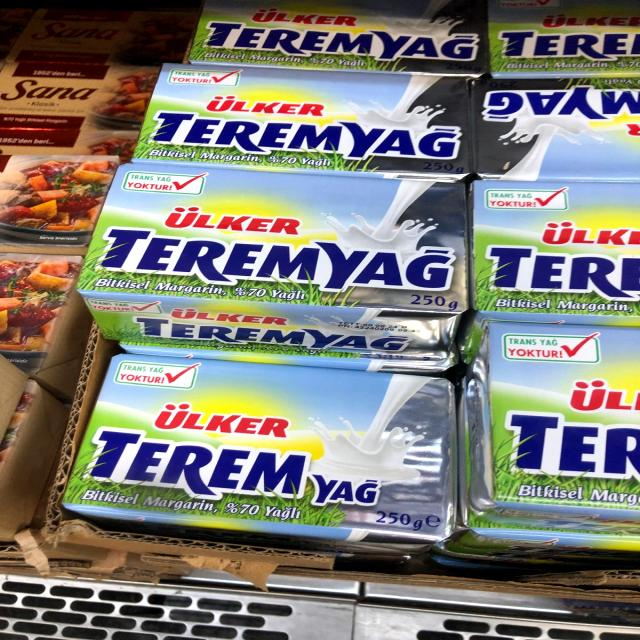margarine: (61, 348, 454, 543), (102, 167, 466, 348), (151, 63, 472, 174)
